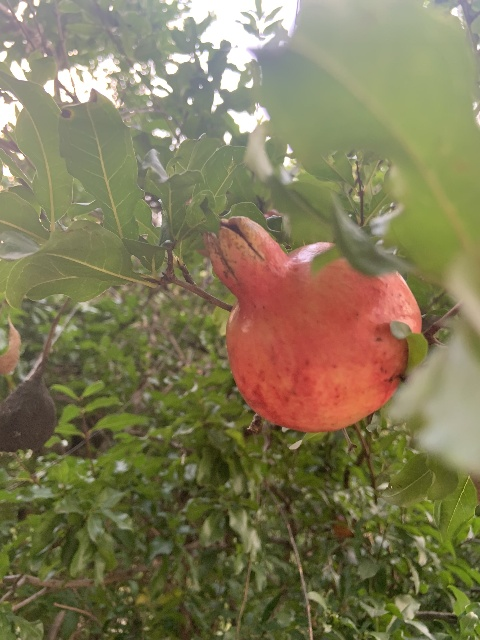ripe: (203, 215, 423, 432)
